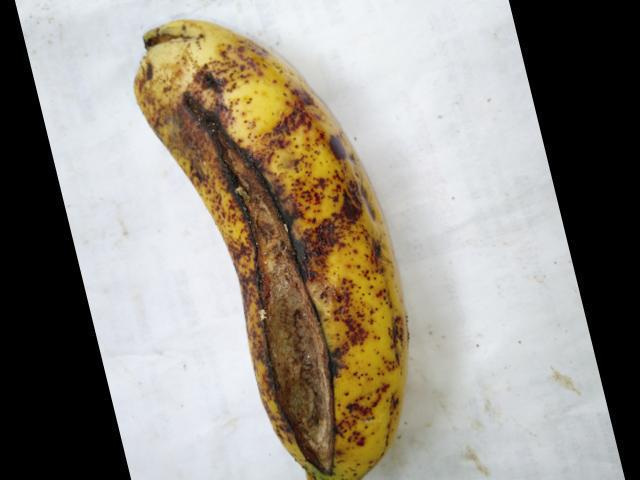rotten: (179, 72, 392, 479)
